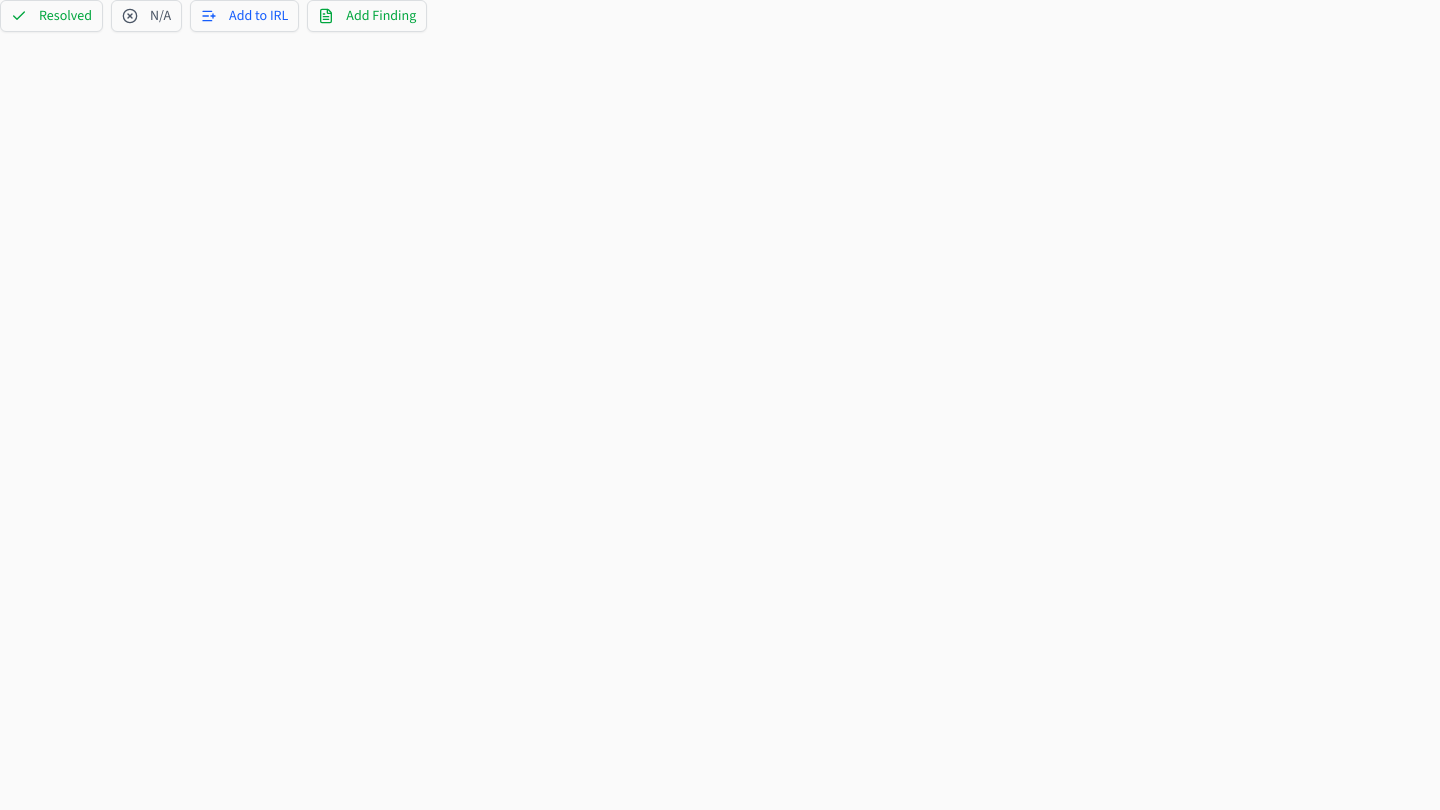
Test: GapActions › Add Finding Dialog › opens dialog when Add Finding is clicked
This screenshot has width=1440, height=810.
What coordinates should you click on to do the following:
click the button with aria-label "add manual finding"
I would click on:
 (367, 16)
Its box is [307,0,427,32].
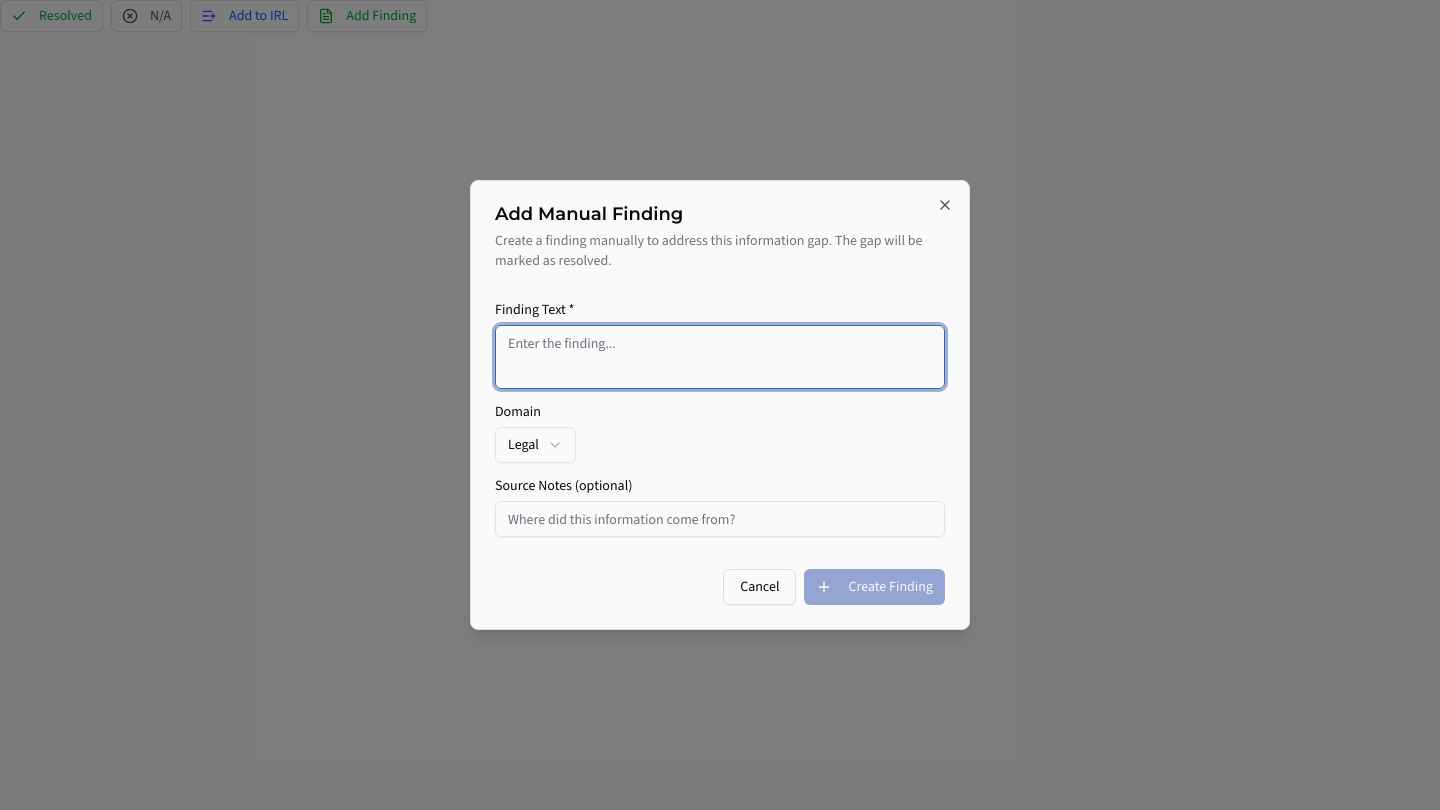
Now the dialog is shown, box [470,180,970,630]
Now the heading "Add Manual Finding" is shown, box [495,203,683,225]
